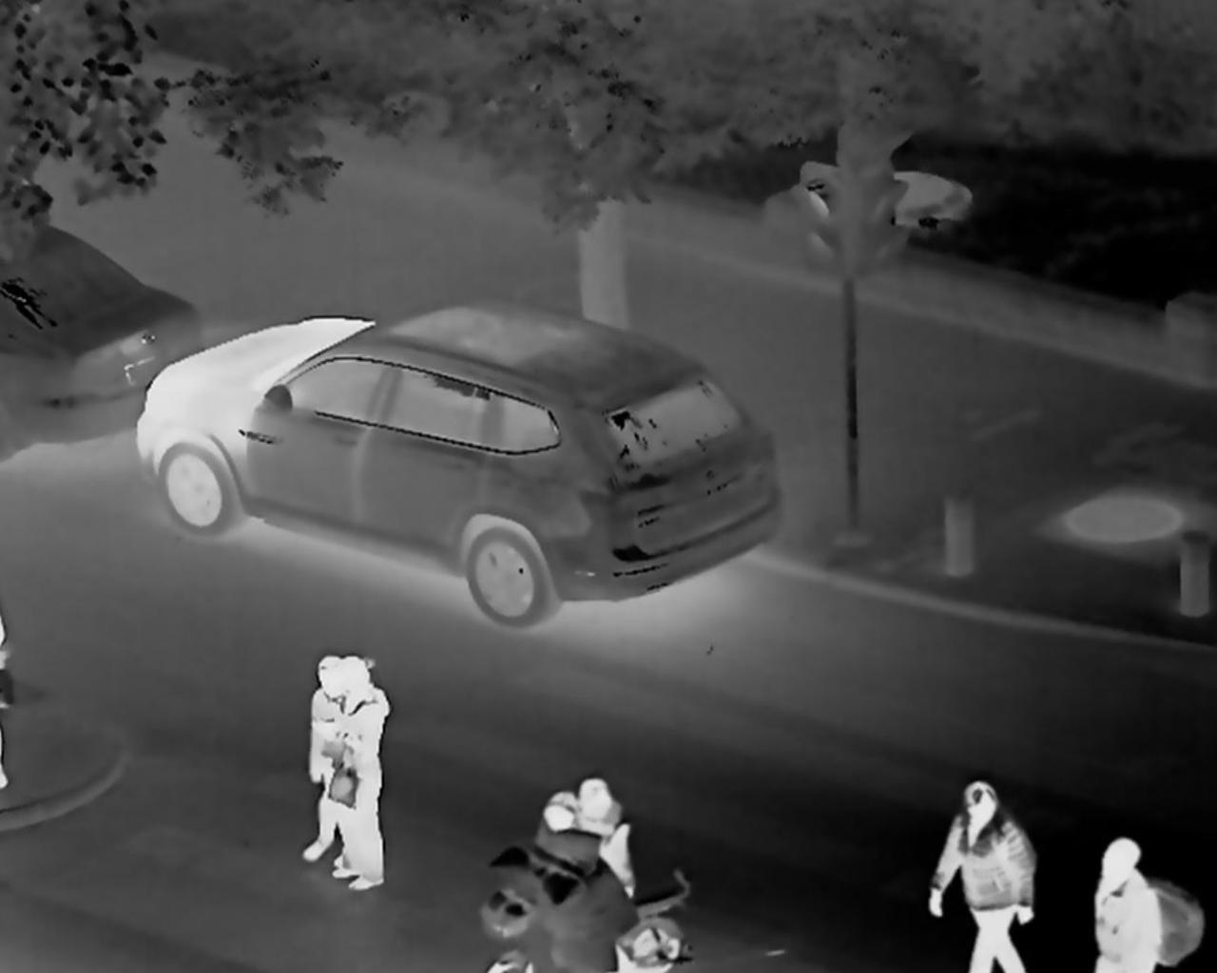person: (295, 638, 414, 872), (925, 785, 1072, 966), (1094, 842, 1189, 973), (542, 783, 627, 912)
